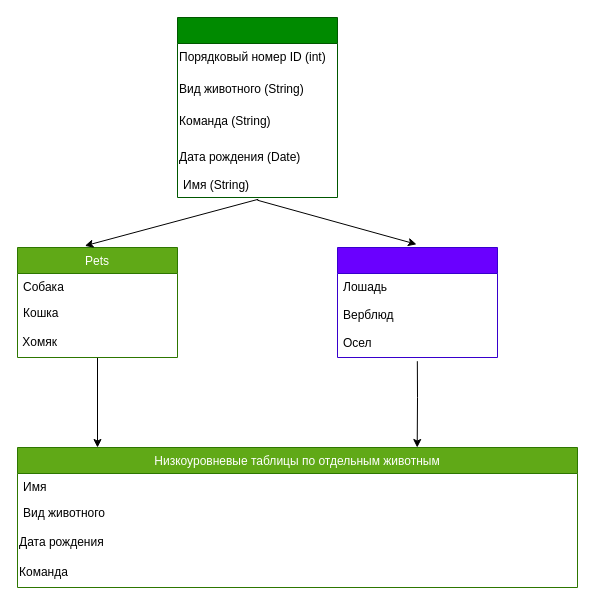
Some shapes in this 595 by 605 pixel diagram are drawn without their labels. The shapes that lost their labels are listed below. From the top down, each one's box as (x1, y1, x2, y2) in pixels, then its label:
(176, 16, 338, 198): Animals
(336, 246, 498, 358): Pack Animals
